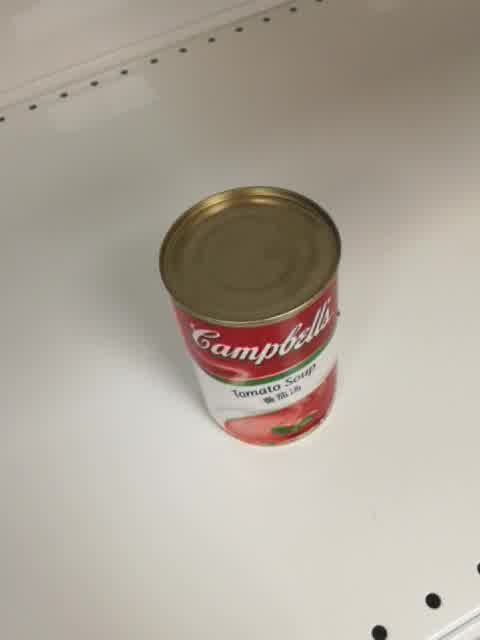tomatosoup: (156, 185, 342, 447)
